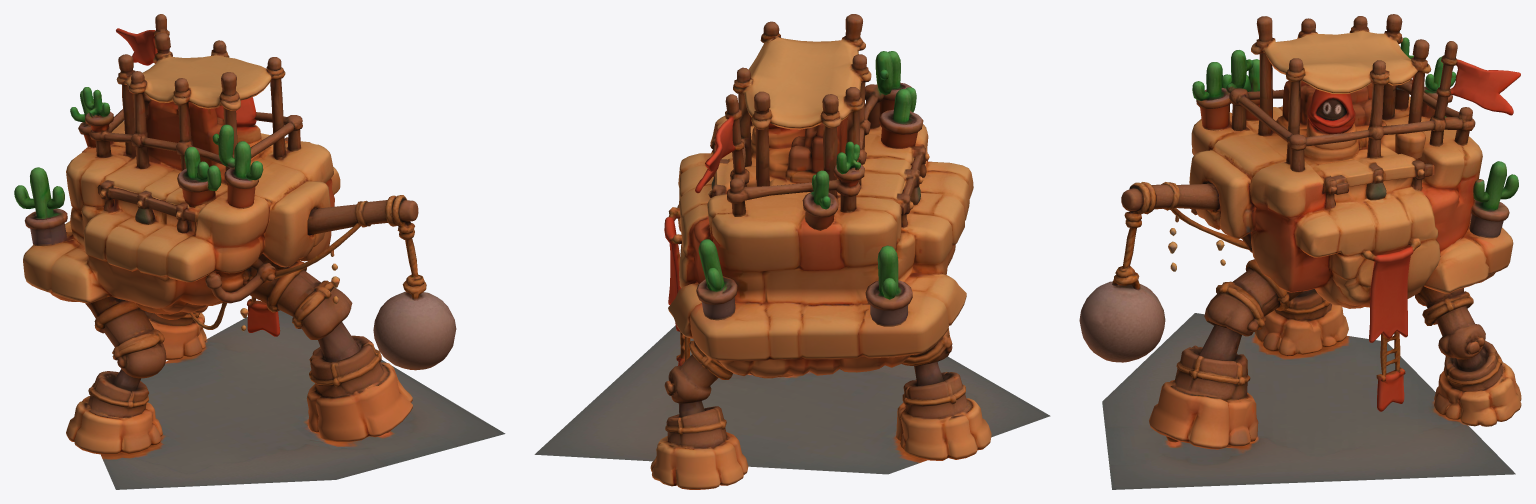
3 views of the same model, side by side, from view 1: azimuth 30°, elevation 25°; view 2: azimuth 150°, elevation 25°; view 3: azimuth 270°, elevation 25° (orthographic). The views are drawn at different scales.
Parts seen in each view (by area): view 1: tripo_node_7e9e7ebc; view 2: tripo_node_7e9e7ebc; view 3: tripo_node_7e9e7ebc.
Boxes of the visible parts, x1=… form: tripo_node_7e9e7ebc: x1=14, y1=14, x2=505, y2=489; tripo_node_7e9e7ebc: x1=534, y1=14, x2=1050, y2=489; tripo_node_7e9e7ebc: x1=1079, y1=14, x2=1521, y2=489.
Bounding box in the file's own units: 94.78 × 94.09 × 99.95.
1 material, 1 textured.
